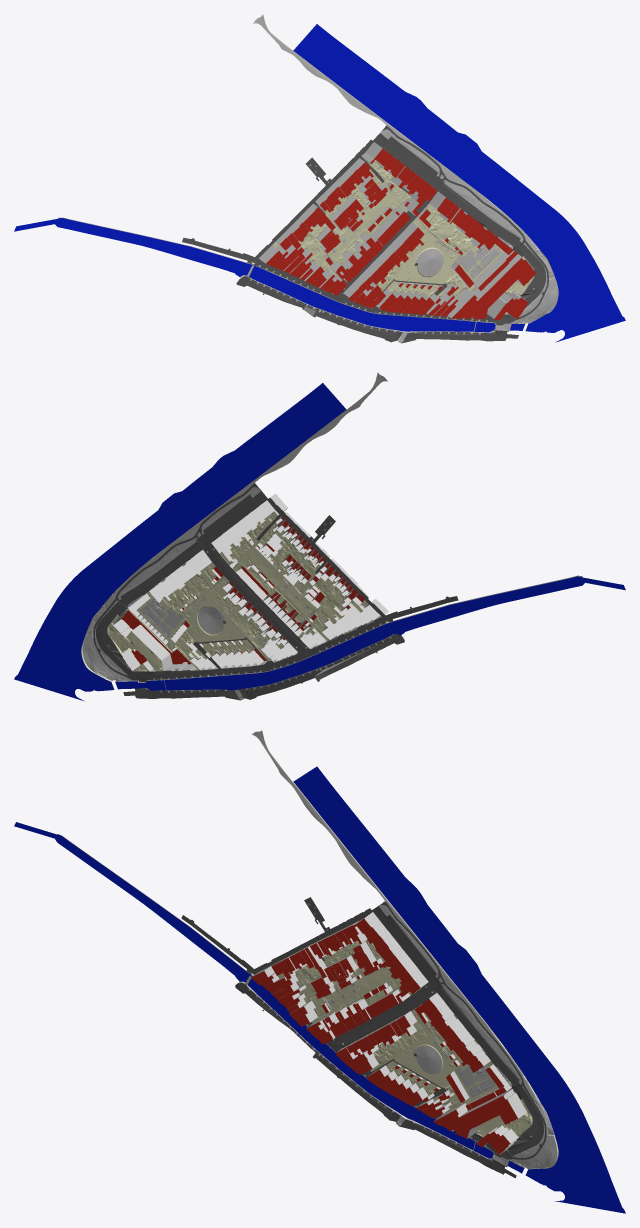
The model's file is inner_wall_true.obj.
3 views of the same model, one above another, from view 1: azimuth 30°, elevation 25°; view 2: azimuth 150°, elevation 25°; view 3: azimuth 330°, elevation 25° (orthographic).
Parts seen in each view (by area): view 1: b69a8d7bc-2d38-11e6-9a38-393caa90be70, bedab6302-00c8-11e6-b420-2bdcc4ab5d7f, b1105d28c-00ba-11e6-b420-2bdcc4ab5d7f, b2c160b4d-2d29-11e6-9a38-393caa90be70, b492abedc-00b4-11e6-b420-2bdcc4ab5d7f, b983a1b0d-00c9-11e6-b420-2bdcc4ab5d7f, b221e7287-00b5-11e6-b420-2bdcc4ab5d7f, b4138231e-00b4-11e6-b420-2bdcc4ab5d7f, b984231ca-00c9-11e6-b420-2bdcc4ab5d7f, b31be22bd-00ba-11e6-b420-2bdcc4ab5d7f, baef3f9c3-00c9-11e6-b420-2bdcc4ab5d7f, b1128007f-00ba-11e6-b420-2bdcc4ab5d7f (+10 smaller); view 2: b69a8d7bc-2d38-11e6-9a38-393caa90be70, bedab6302-00c8-11e6-b420-2bdcc4ab5d7f, b1105d28c-00ba-11e6-b420-2bdcc4ab5d7f, b2c160b4d-2d29-11e6-9a38-393caa90be70, b492abedc-00b4-11e6-b420-2bdcc4ab5d7f, b221e7287-00b5-11e6-b420-2bdcc4ab5d7f, b983a1b0d-00c9-11e6-b420-2bdcc4ab5d7f, b4138231e-00b4-11e6-b420-2bdcc4ab5d7f, b2223065e-00b5-11e6-b420-2bdcc4ab5d7f, b4931c302-00b4-11e6-b420-2bdcc4ab5d7f, b22250278-00b5-11e6-b420-2bdcc4ab5d7f, b984231ca-00c9-11e6-b420-2bdcc4ab5d7f (+14 smaller); view 3: b69a8d7bc-2d38-11e6-9a38-393caa90be70, bedab6302-00c8-11e6-b420-2bdcc4ab5d7f, b1105d28c-00ba-11e6-b420-2bdcc4ab5d7f, b2c160b4d-2d29-11e6-9a38-393caa90be70, b492abedc-00b4-11e6-b420-2bdcc4ab5d7f, b4138231e-00b4-11e6-b420-2bdcc4ab5d7f, b983a1b0d-00c9-11e6-b420-2bdcc4ab5d7f, b82575848-2d29-11e6-9a38-393caa90be70, b4931c302-00b4-11e6-b420-2bdcc4ab5d7f, b2223065e-00b5-11e6-b420-2bdcc4ab5d7f, baef3f9c3-00c9-11e6-b420-2bdcc4ab5d7f, b31be22bd-00ba-11e6-b420-2bdcc4ab5d7f.
Boxes of the visible parts, x1,y1,x2,y2 form: b69a8d7bc-2d38-11e6-9a38-393caa90be70: [293, 24, 625, 342]; bedab6302-00c8-11e6-b420-2bdcc4ab5d7f: [14, 218, 475, 331]; b1105d28c-00ba-11e6-b420-2bdcc4ab5d7f: [447, 254, 536, 319]; b2c160b4d-2d29-11e6-9a38-393caa90be70: [253, 15, 534, 248]; b492abedc-00b4-11e6-b420-2bdcc4ab5d7f: [381, 222, 458, 291]; b983a1b0d-00c9-11e6-b420-2bdcc4ab5d7f: [255, 140, 384, 258]; b221e7287-00b5-11e6-b420-2bdcc4ab5d7f: [416, 204, 478, 257]; b4138231e-00b4-11e6-b420-2bdcc4ab5d7f: [322, 182, 407, 273]; b984231ca-00c9-11e6-b420-2bdcc4ab5d7f: [182, 237, 334, 298]; b31be22bd-00ba-11e6-b420-2bdcc4ab5d7f: [487, 291, 528, 319]; baef3f9c3-00c9-11e6-b420-2bdcc4ab5d7f: [404, 331, 518, 342]; b1128007f-00ba-11e6-b420-2bdcc4ab5d7f: [372, 207, 410, 246]; b69a8d7bc-2d38-11e6-9a38-393caa90be70: [14, 383, 346, 701]; bedab6302-00c8-11e6-b420-2bdcc4ab5d7f: [164, 576, 625, 690]; b1105d28c-00ba-11e6-b420-2bdcc4ab5d7f: [113, 609, 197, 671]; b2c160b4d-2d29-11e6-9a38-393caa90be70: [106, 373, 387, 606]; b492abedc-00b4-11e6-b420-2bdcc4ab5d7f: [182, 580, 271, 661]; b221e7287-00b5-11e6-b420-2bdcc4ab5d7f: [159, 563, 223, 614]; b983a1b0d-00c9-11e6-b420-2bdcc4ab5d7f: [256, 498, 385, 616]; b4138231e-00b4-11e6-b420-2bdcc4ab5d7f: [233, 540, 329, 641]; b2223065e-00b5-11e6-b420-2bdcc4ab5d7f: [312, 577, 346, 631]; b4931c302-00b4-11e6-b420-2bdcc4ab5d7f: [212, 588, 276, 648]; b22250278-00b5-11e6-b420-2bdcc4ab5d7f: [255, 528, 319, 575]; b984231ca-00c9-11e6-b420-2bdcc4ab5d7f: [304, 596, 458, 657]; b69a8d7bc-2d38-11e6-9a38-393caa90be70: [293, 766, 625, 1213]; bedab6302-00c8-11e6-b420-2bdcc4ab5d7f: [14, 822, 474, 1149]; b1105d28c-00ba-11e6-b420-2bdcc4ab5d7f: [433, 1089, 526, 1138]; b2c160b4d-2d29-11e6-9a38-393caa90be70: [252, 730, 533, 1096]; b492abedc-00b4-11e6-b420-2bdcc4ab5d7f: [369, 1014, 457, 1088]; b4138231e-00b4-11e6-b420-2bdcc4ab5d7f: [311, 957, 401, 1023]; b983a1b0d-00c9-11e6-b420-2bdcc4ab5d7f: [254, 897, 381, 972]; b82575848-2d29-11e6-9a38-393caa90be70: [262, 730, 554, 1134]; b4931c302-00b4-11e6-b420-2bdcc4ab5d7f: [373, 1021, 427, 1063]; b2223065e-00b5-11e6-b420-2bdcc4ab5d7f: [295, 964, 325, 1016]; baef3f9c3-00c9-11e6-b420-2bdcc4ab5d7f: [401, 1120, 516, 1178]; b31be22bd-00ba-11e6-b420-2bdcc4ab5d7f: [476, 1125, 518, 1154].
Size of the model in its own units: 524 by 328 by 28.8.
